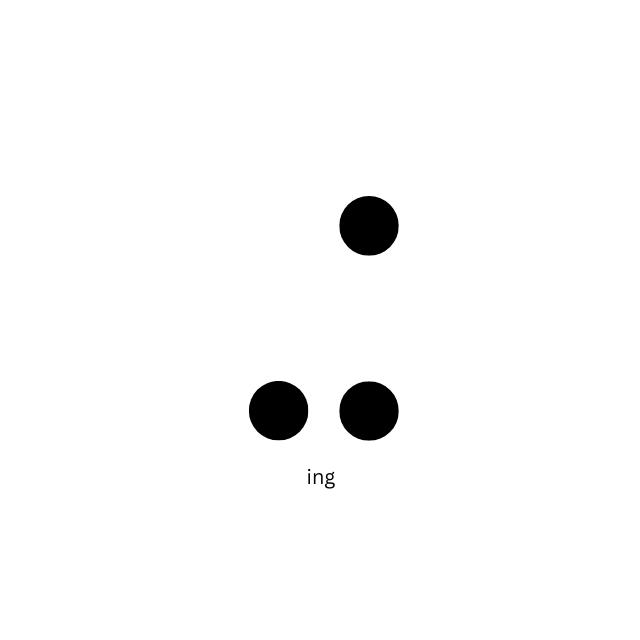one_cell_part_word_ing: (248, 195, 399, 442)
